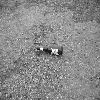beer: (35, 43, 68, 56)
